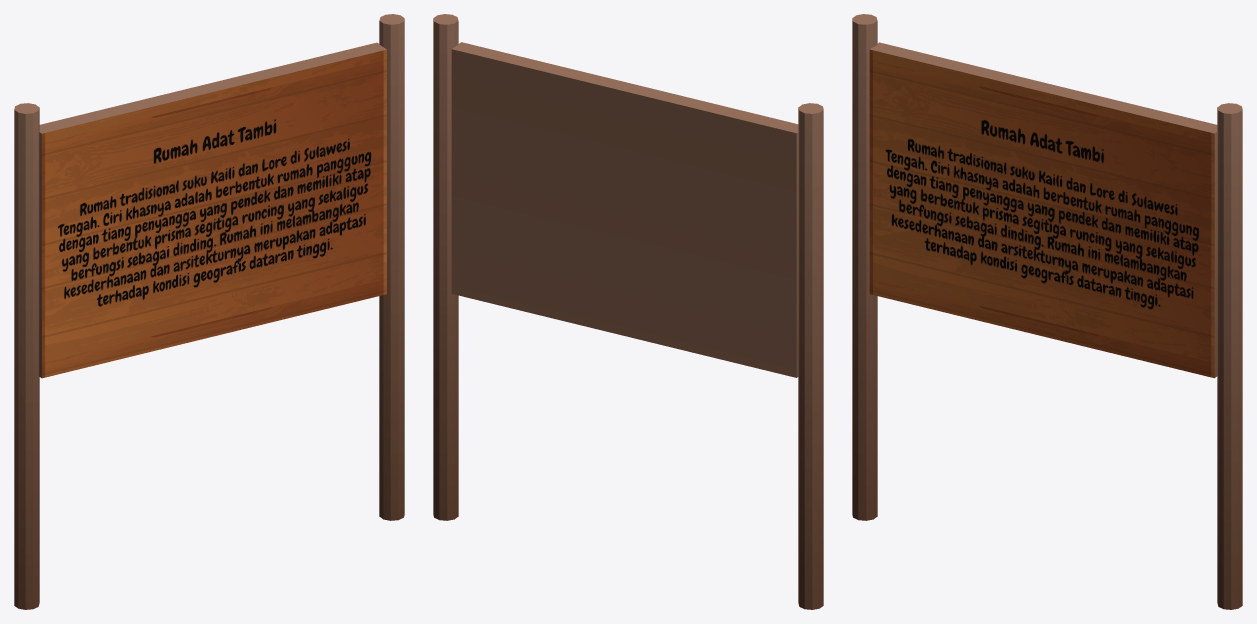
The model's file is Papan Info Rumah Tambi.fbx.
The picture shows the model from 3 angles, left to right: view 1: azimuth 30°, elevation 25°; view 2: azimuth 150°, elevation 25°; view 3: azimuth 330°, elevation 25°; orthographic projection.
Visible parts, largest first — view 1: Cylinder.003; view 2: Cylinder.003; view 3: Cylinder.003.
Boxes of the visible parts, bbox=[...] form: Cylinder.003: bbox=[14, 14, 404, 609]; Cylinder.003: bbox=[433, 14, 823, 609]; Cylinder.003: bbox=[852, 14, 1242, 609].
Size of the model in its own units: 1029 by 1262 by 59.44.
